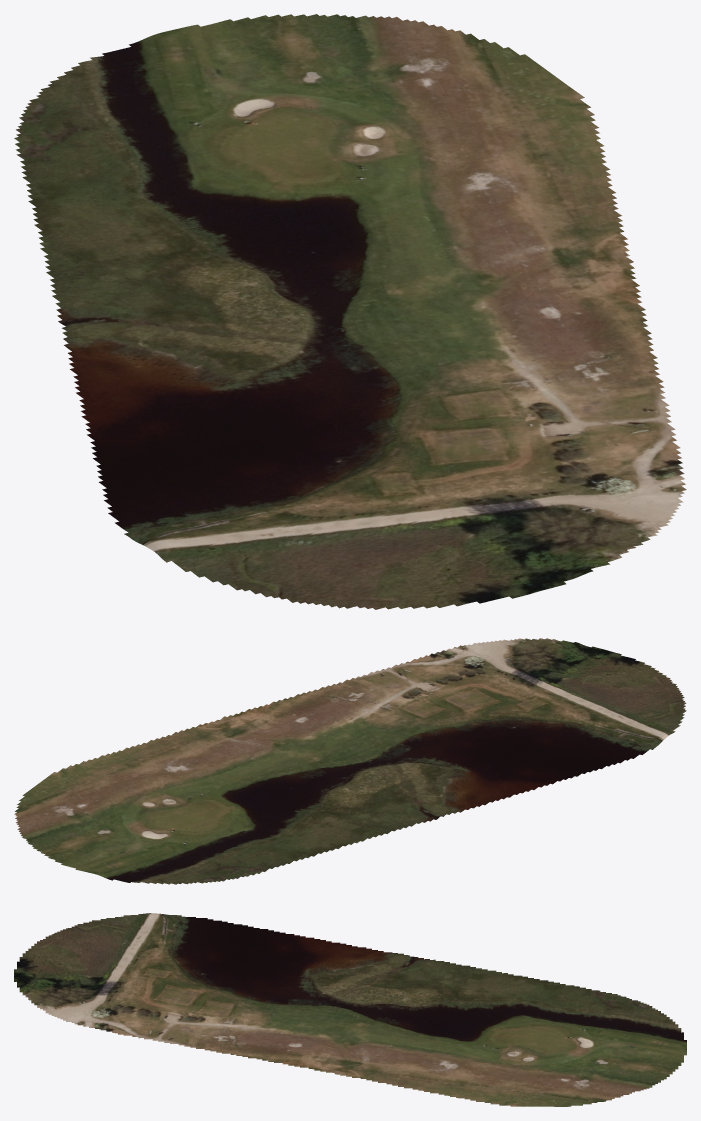
The model's file is flommen_1.glb.
The picture shows the model from 3 angles, top to bottom: view 1: azimuth 30°, elevation 25°; view 2: azimuth 150°, elevation 25°; view 3: azimuth 270°, elevation 25°; orthographic projection. The views are drawn at different scales.
Visible parts, largest first — view 1: ground; view 2: ground; view 3: ground.
Boxes of the visible parts, x1,y1,x2,y2 form: ground: (14, 14, 686, 609); ground: (14, 638, 686, 884); ground: (14, 913, 686, 1106).
Bounding box in the file's own units: 159 × 2.01 × 233.
Materials: 1 (1 with a texture image).
